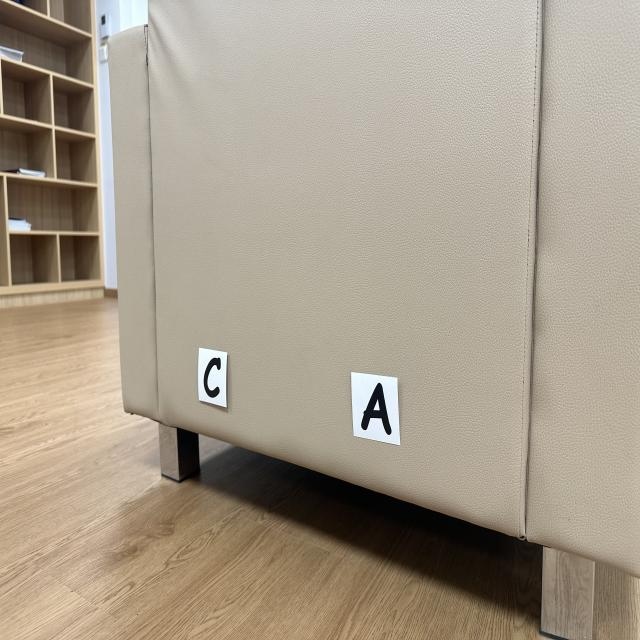A: (361, 383, 391, 435)
C: (204, 358, 221, 398)
